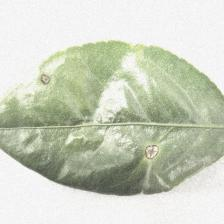canker: (38, 74, 175, 174)
